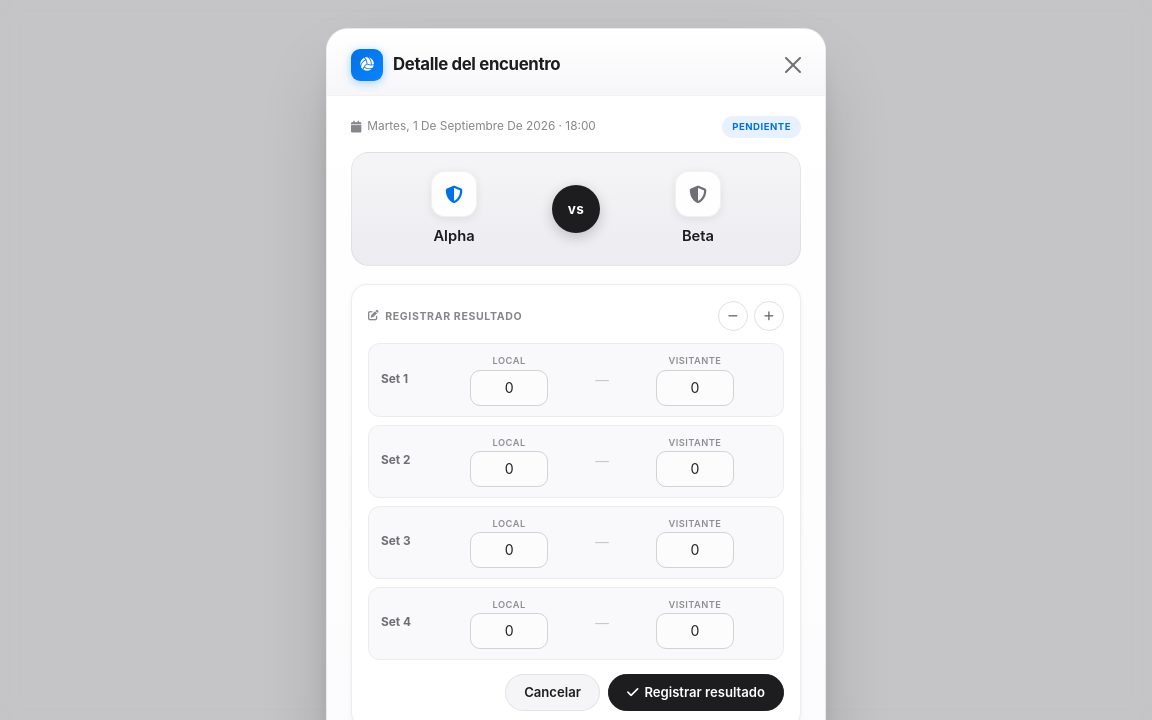
Test: EncuentroModal › muestra error de empate y no registra
The image size is (1152, 720).
What coordinates should you click on to do the following:
click the button "Registrar resultado"
I would click on:
 (696, 692)
Its box is [608,674,784,711].
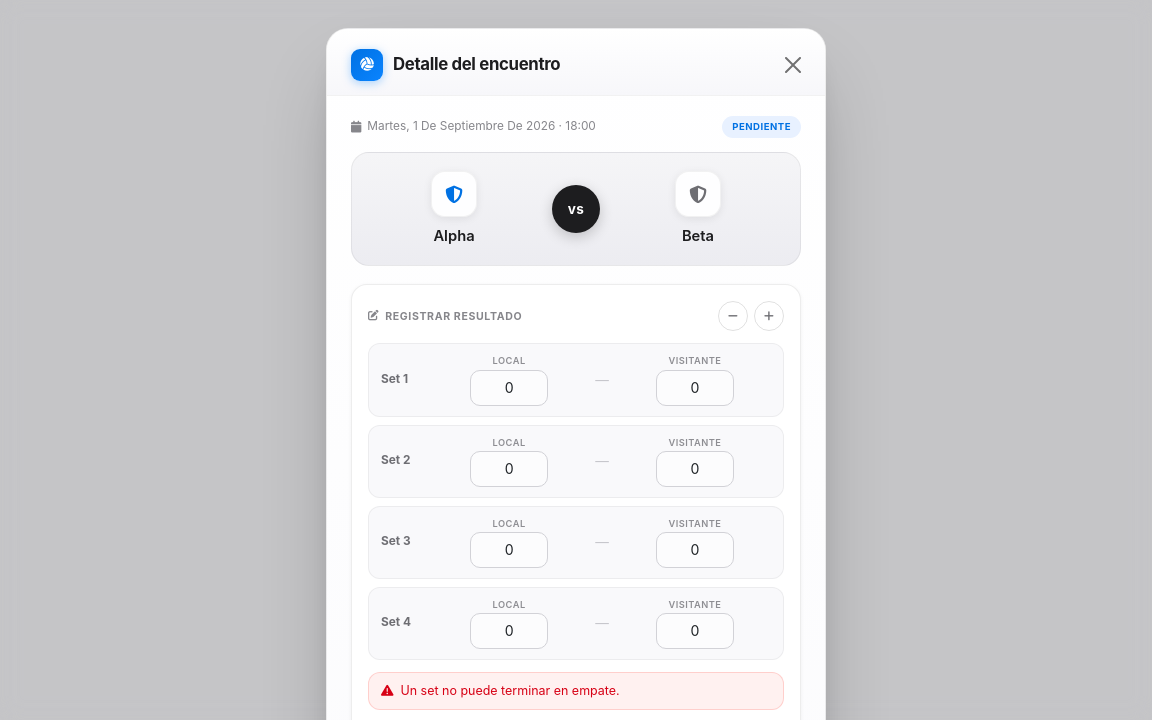
Result: the text "Un set no puede terminar en empate." is shown at [368,672,784,710]
